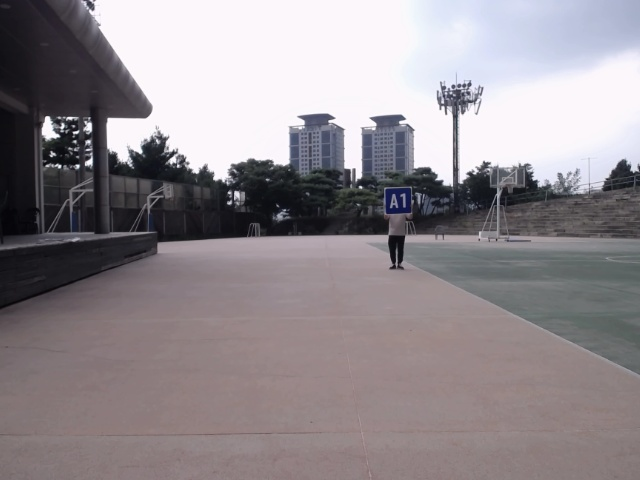delivery_a1: (384, 187, 411, 214)
